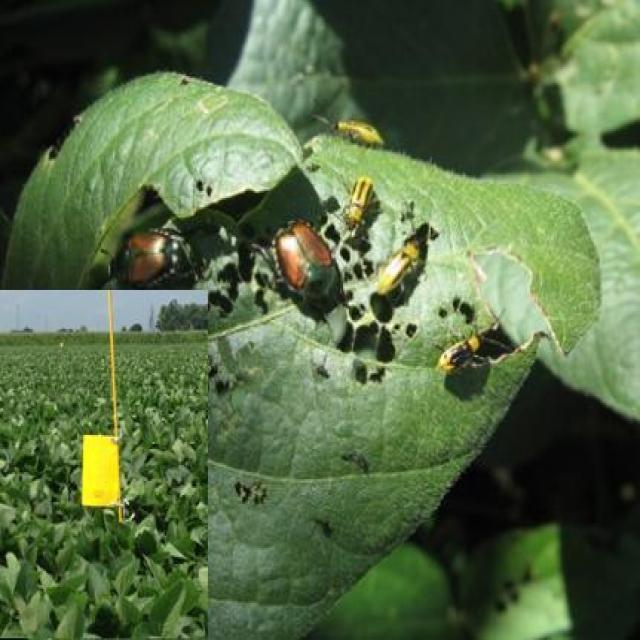trips: (378, 242, 421, 305), (318, 108, 382, 148), (436, 328, 482, 377), (343, 176, 371, 232)
